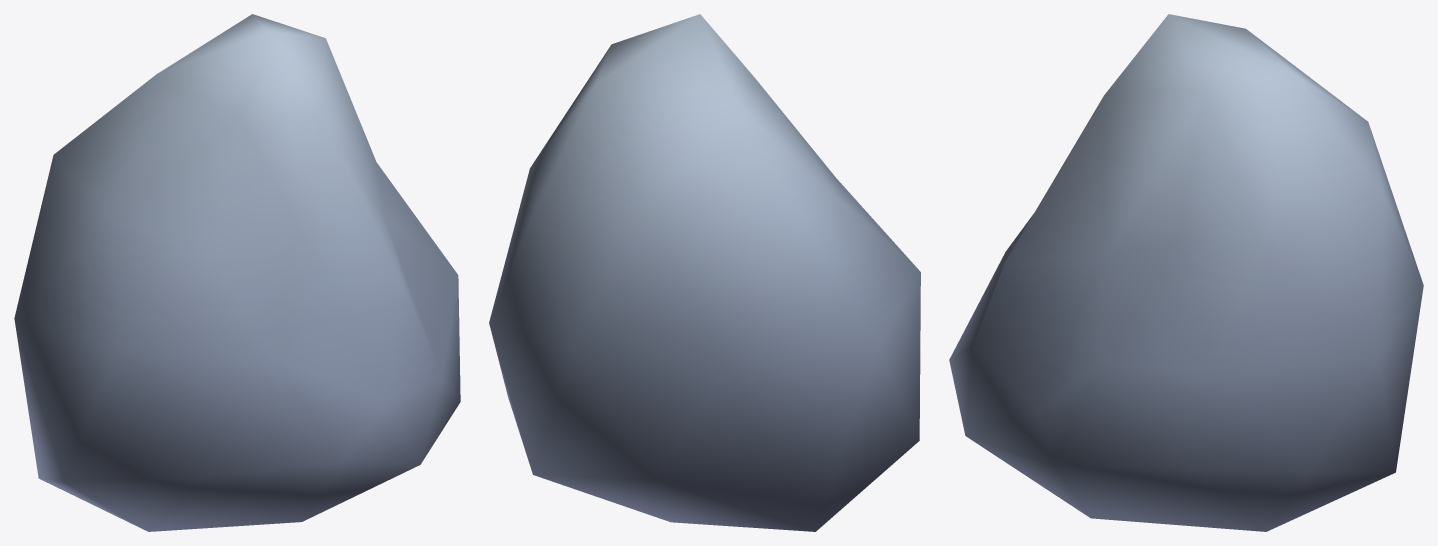
The model's file is rock-1.fbx.
3 views of the same model, side by side, from view 1: azimuth 30°, elevation 25°; view 2: azimuth 150°, elevation 25°; view 3: azimuth 270°, elevation 25° (orthographic). The views are drawn at different scales.
Parts seen in each view (by area): view 1: rock-1; view 2: rock-1; view 3: rock-1.
Boxes of the visible parts, left/top/right/bottom form: rock-1: left=14, top=14, right=460, bottom=531; rock-1: left=489, top=14, right=920, bottom=531; rock-1: left=949, top=14, right=1423, bottom=531.
Bounding box in the file's own units: 36.63 × 43.11 × 37.58.
